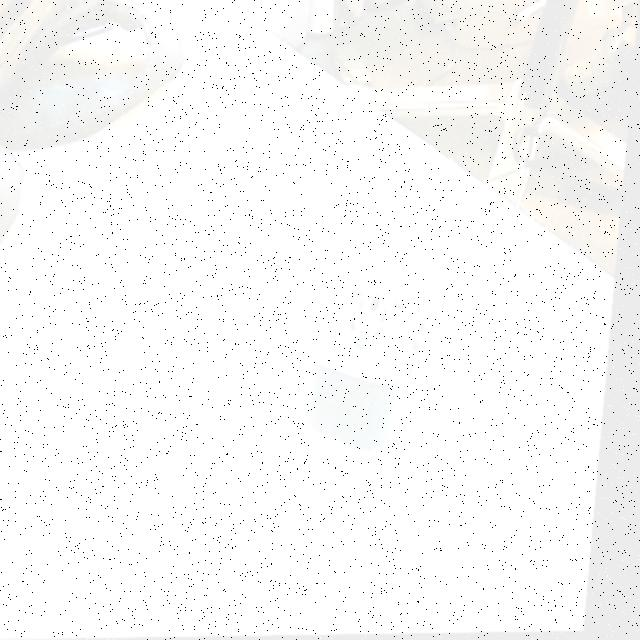adapter: (307, 241, 439, 453)
